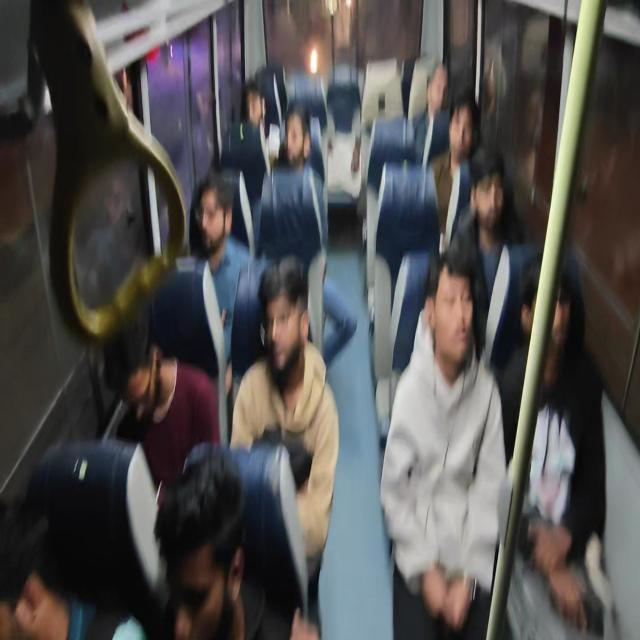person: (159, 462, 251, 632), (0, 472, 62, 639), (259, 253, 313, 386), (101, 324, 167, 432), (421, 245, 478, 362), (522, 249, 577, 353), (192, 175, 235, 262), (471, 146, 511, 230), (278, 98, 316, 173), (449, 94, 478, 158), (423, 59, 453, 118), (244, 71, 272, 131)
